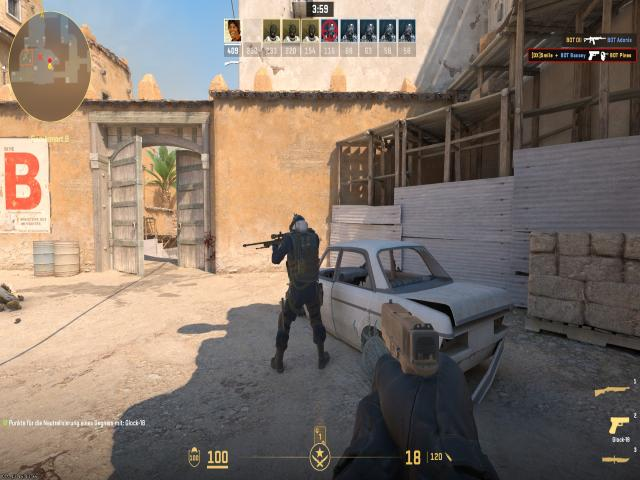CT: (280, 213, 324, 364)
CT-Head: (292, 215, 305, 232)
Dead: (0, 282, 24, 310)
